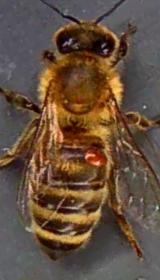varroa_mite: (79, 134, 107, 175)
